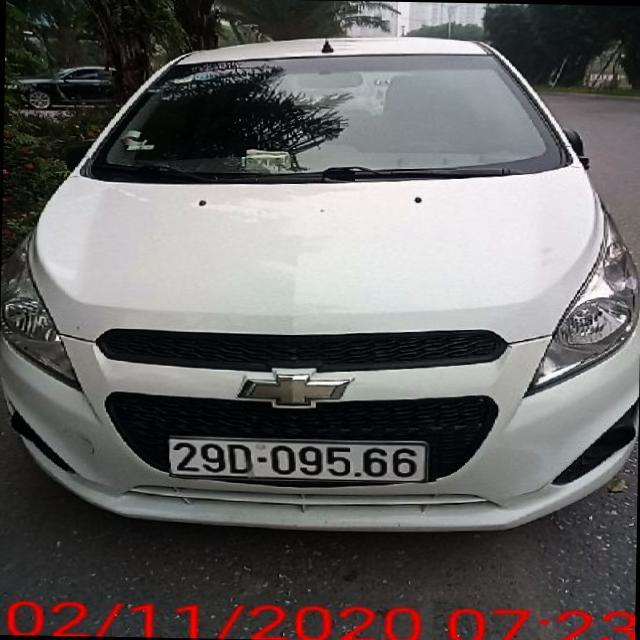car: (0, 12, 640, 558)
plate: (164, 430, 430, 487)
